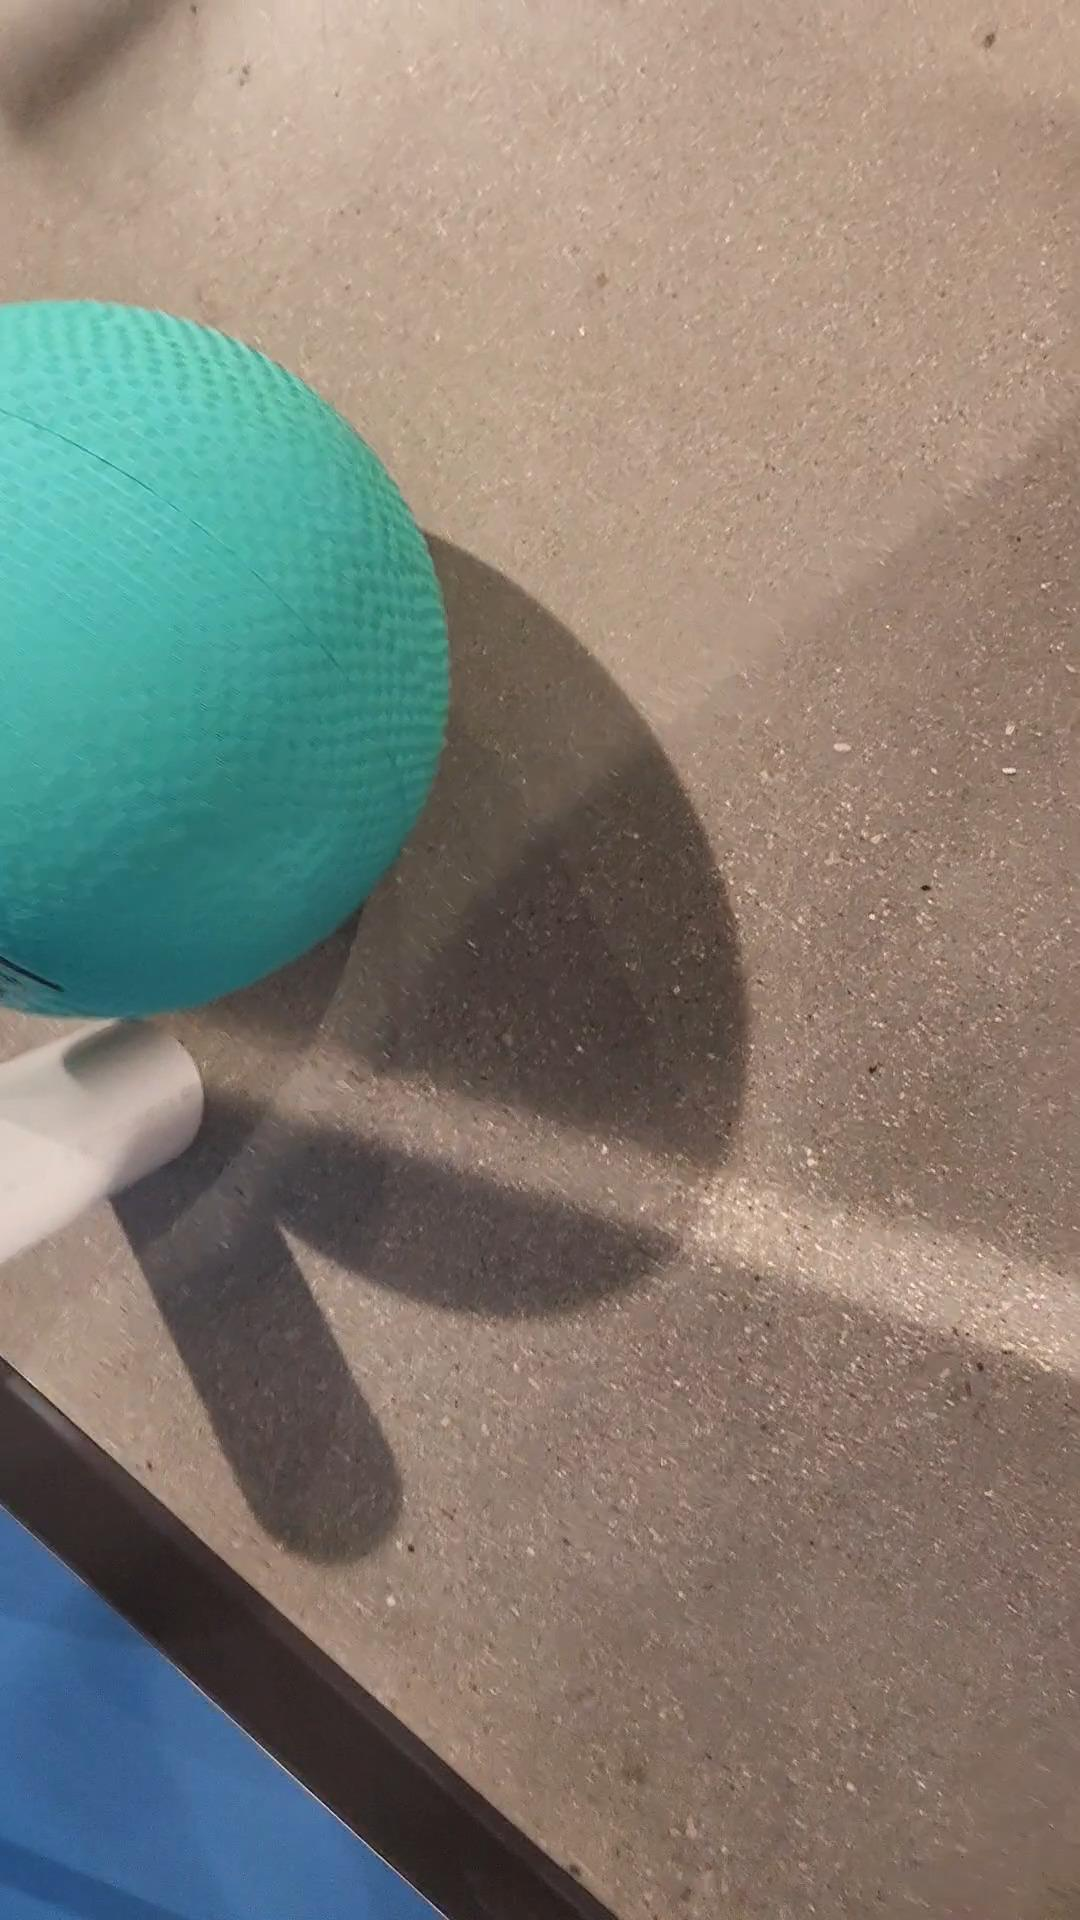algae: (0, 284, 463, 1013)
coral: (0, 994, 229, 1259)
